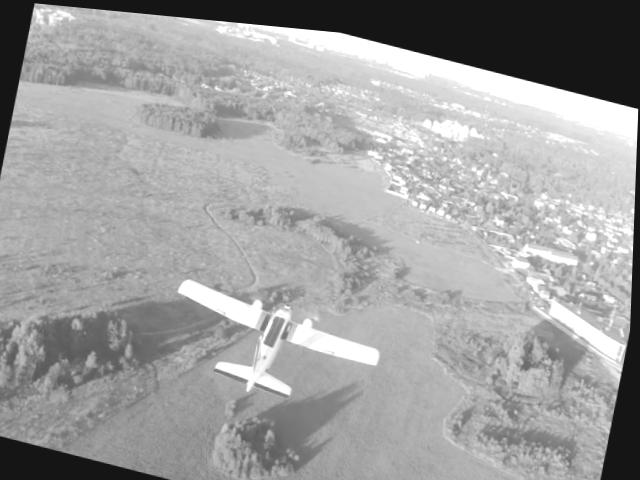hedef: (158, 260, 393, 413)
